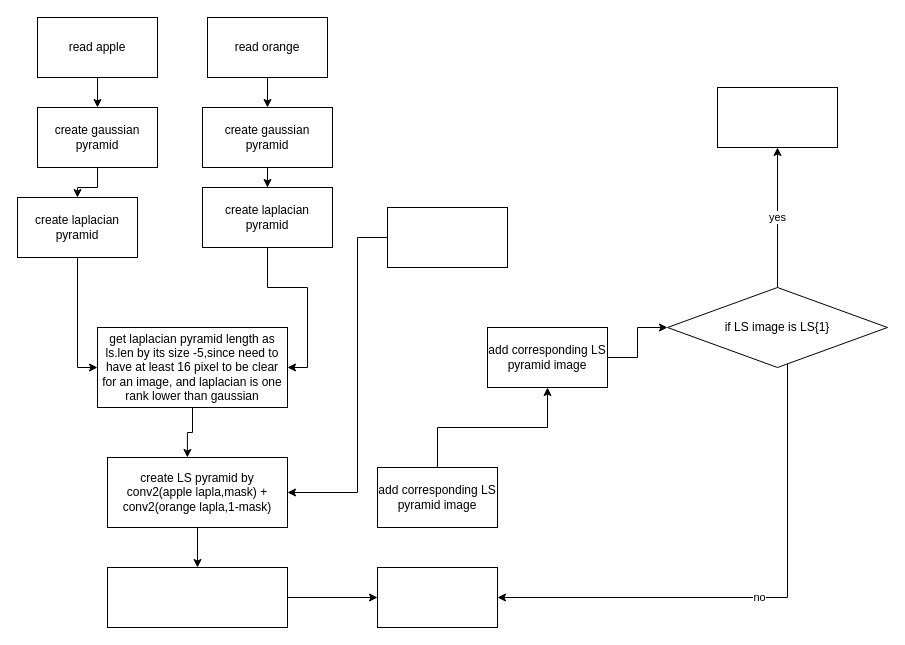
The diagram is 905 pixels wide and 645 high, and some of its shapes have lost their labels. Each missing label, with the centre of its shape:
"combining the two image gaussian pyramid{ls.len) by using the same image" goes at point (197, 597).
"create mask" goes at point (447, 237).
"expand and apply gaussian smothing" goes at point (437, 597).
"output image as result" goes at point (777, 117).
